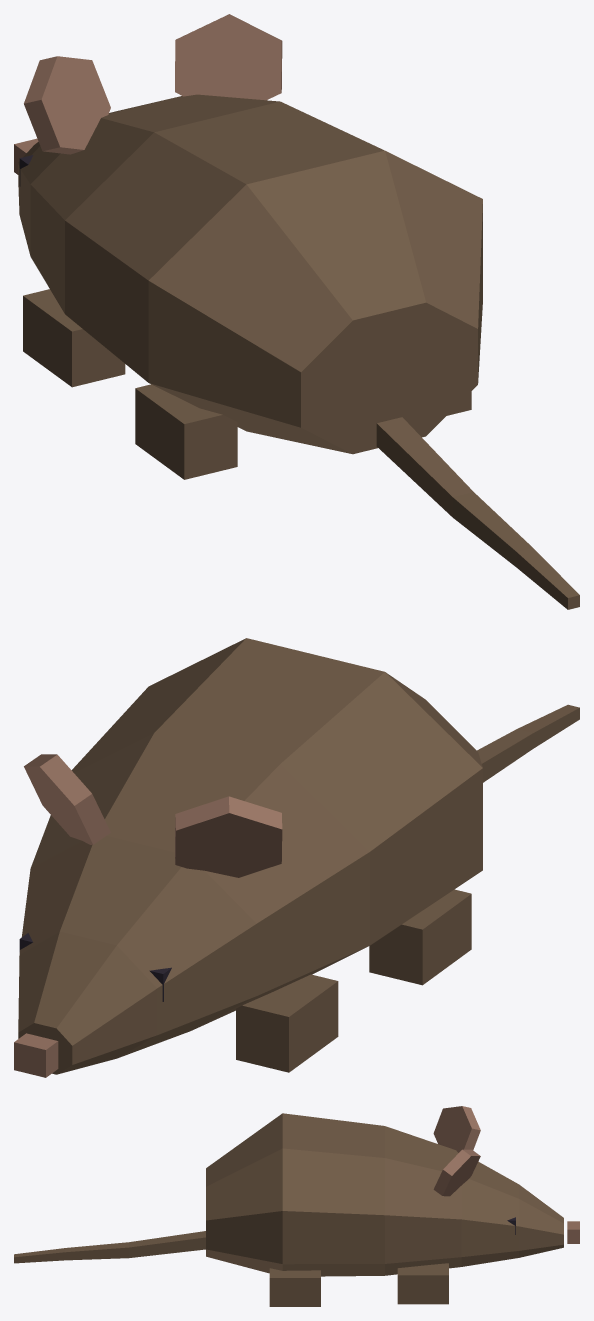
The model's file is rat.glb.
3 renders of one model, top to bottom at view 1: azimuth 30°, elevation 25°; view 2: azimuth 150°, elevation 25°; view 3: azimuth 270°, elevation 25°, orthographic. The views are drawn at different scales.
Visible parts, largest first — view 1: ratBody; view 2: ratBody; view 3: ratBody.
Boxes of the visible parts, bbox=[...] form: ratBody: bbox=[14, 14, 579, 609]; ratBody: bbox=[14, 638, 579, 1077]; ratBody: bbox=[14, 1106, 579, 1306].
Size of the model in its own units: 0.3141 by 0.2461 by 0.885.
